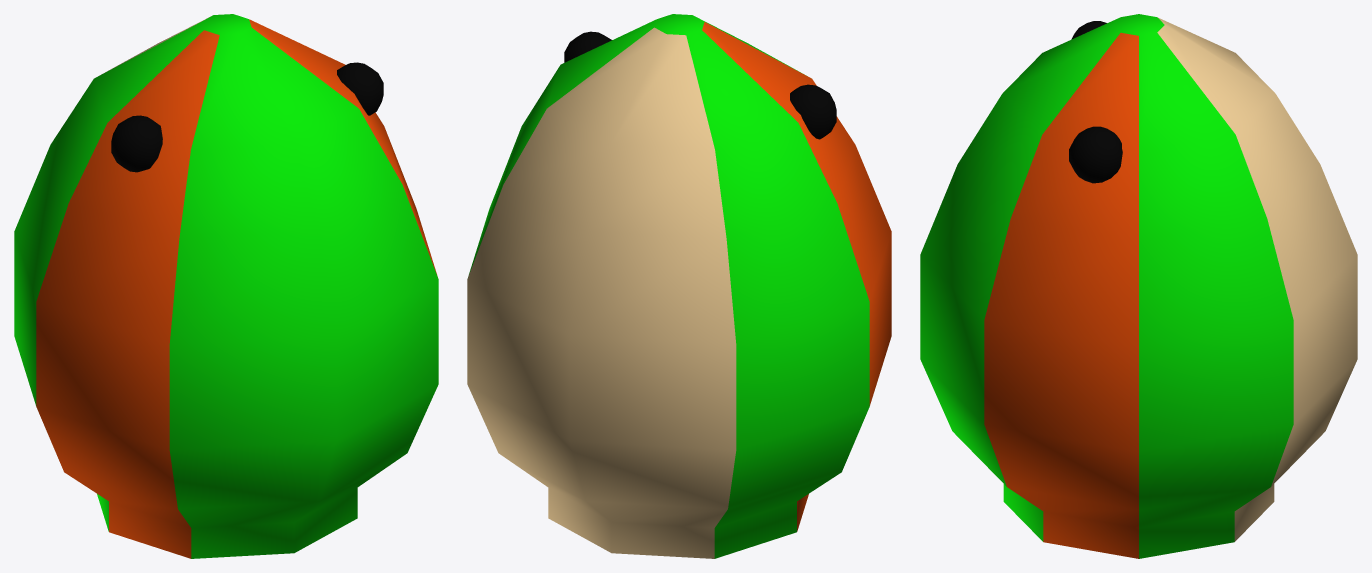
File: snake parts.fbx
3 renders of one model, left to right at view 1: azimuth 30°, elevation 25°; view 2: azimuth 150°, elevation 25°; view 3: azimuth 270°, elevation 25°, orthographic.
Visible parts, largest first — view 1: Circle; view 2: Circle; view 3: Circle.
Part boxes in pixels (x1,y1,x2,y2): Circle: (14, 14, 438, 558); Circle: (467, 14, 891, 558); Circle: (920, 14, 1357, 558).
Bounding box in the file's own units: 98.89 × 119 × 98.89.
